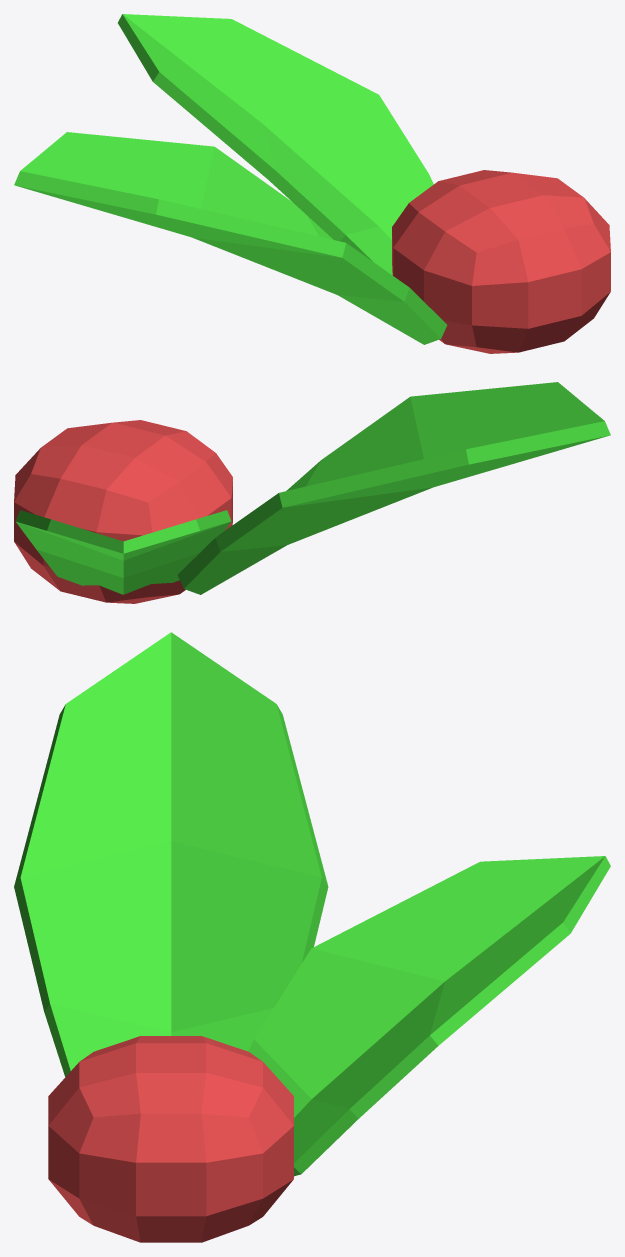
File: flower_sprout.glb
3 views of the same model, one above another, from view 1: azimuth 30°, elevation 25°; view 2: azimuth 150°, elevation 25°; view 3: azimuth 270°, elevation 25° (orthographic). The views are drawn at different scales.
Parts seen in each view (by area): view 1: Roundcube.006; view 2: Roundcube.006; view 3: Roundcube.006.
Boxes of the visible parts, x1,y1,x2,y2 form: Roundcube.006: (14,14,610,353); Roundcube.006: (14,382,610,603); Roundcube.006: (14,632,610,1242).
Size of the model in its own units: 0.856 by 0.3985 by 0.6657.
